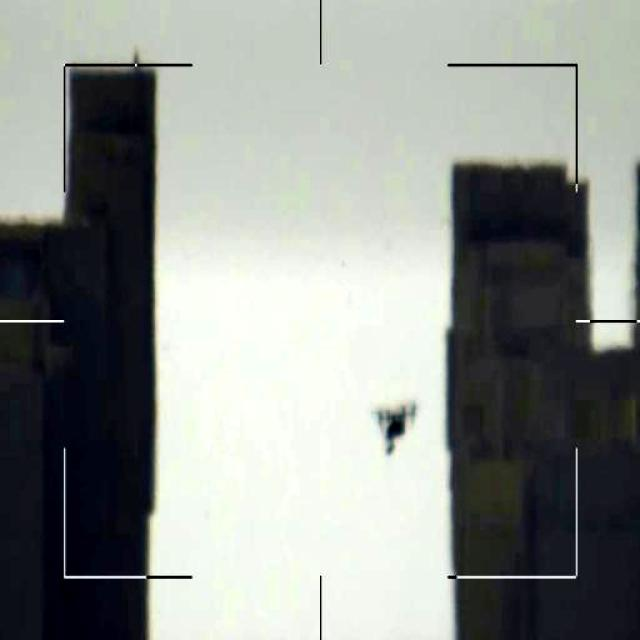bird: (370, 396, 419, 459)
